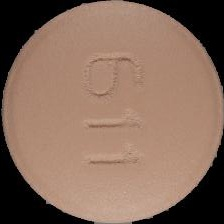51079-200: (0, 0, 224, 224)
